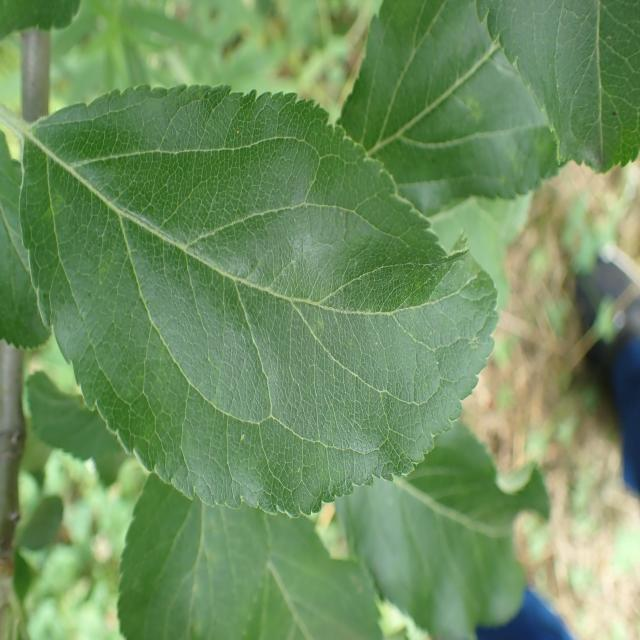healthy: (19, 82, 501, 520), (338, 1, 559, 212), (338, 423, 550, 640), (117, 473, 385, 640), (474, 0, 640, 176), (0, 131, 52, 351)
